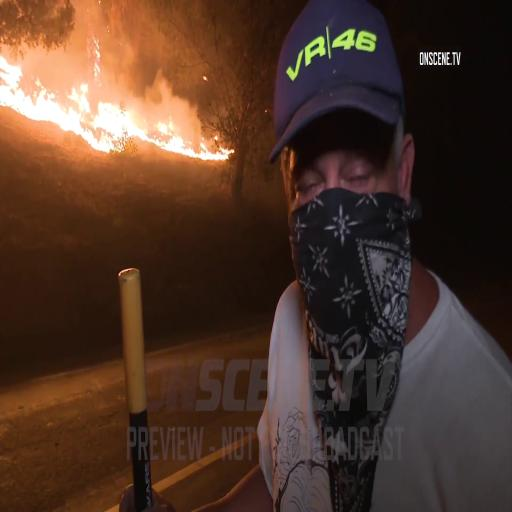fire: (0, 59, 114, 154)
